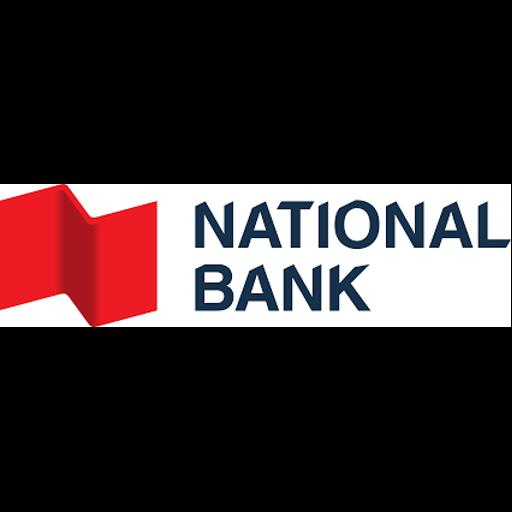National Bank of Canada: (0, 184, 511, 327)
